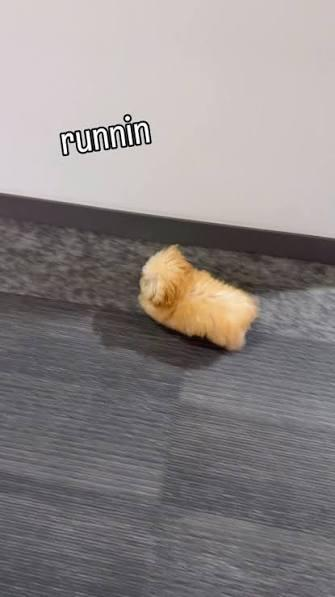puppy-dog: (137, 244, 260, 352)
